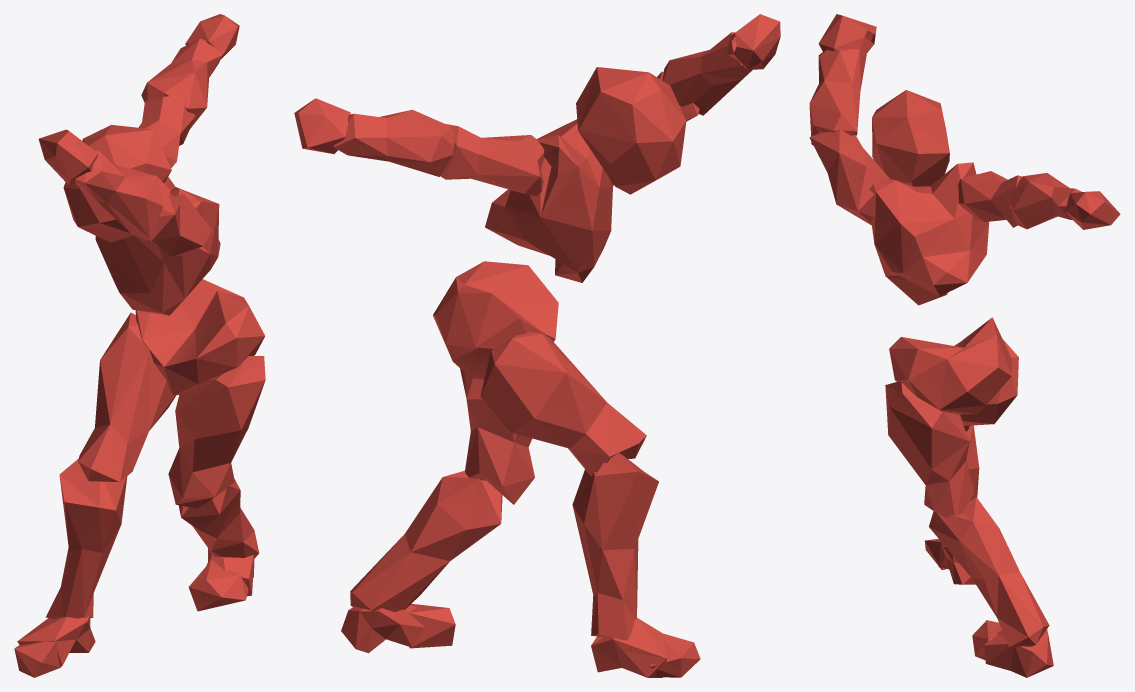
File: 2dancer0188.obj
3 views of the same model, side by side, from view 1: azimuth 30°, elevation 25°; view 2: azimuth 150°, elevation 25°; view 3: azimuth 270°, elevation 25° (orthographic). The views are drawn at different scales.
Visible parts, largest first — view 1: Beta_Surface; view 2: Beta_Surface; view 3: Beta_Surface.
Boxes of the visible parts, x1=… form: Beta_Surface: x1=14, y1=14, x2=265, y2=677; Beta_Surface: x1=294, y1=14, x2=780, y2=677; Beta_Surface: x1=809, y1=14, x2=1120, y2=677.
Size of the model in its own units: 1.01 by 1.77 by 0.925.
